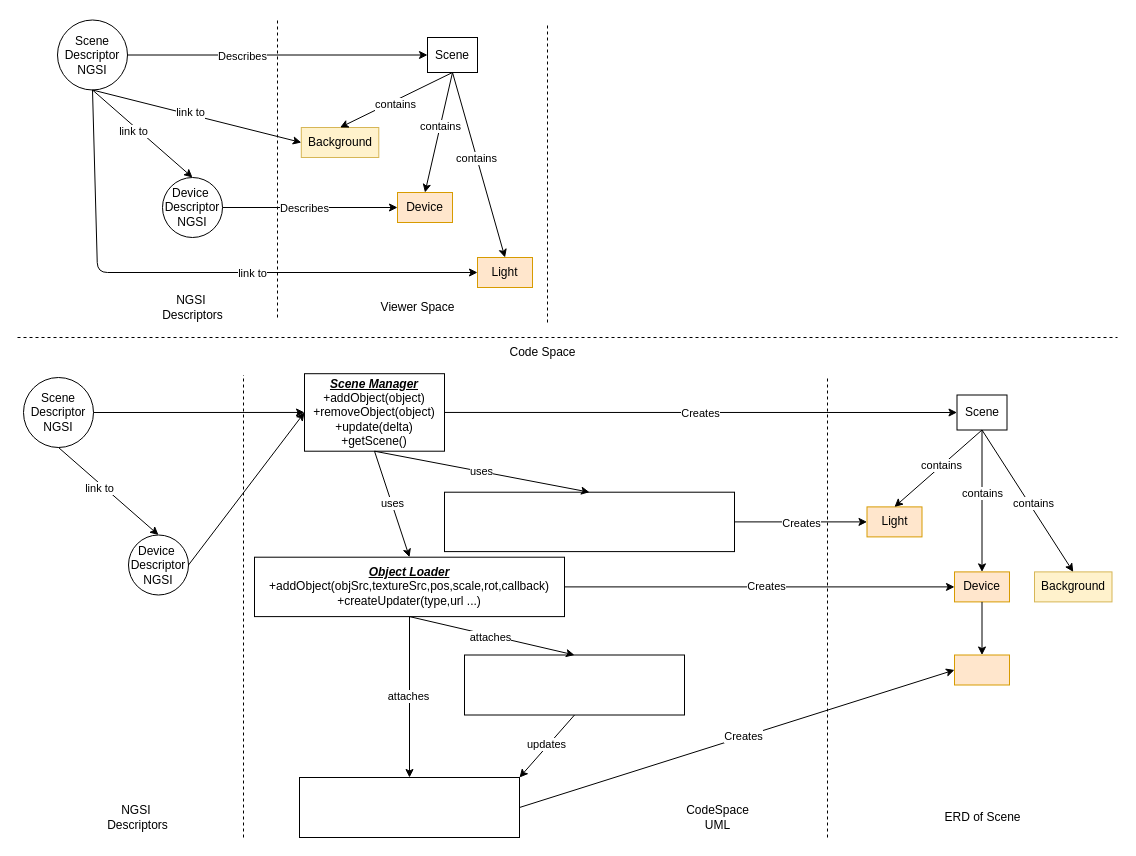
This 1136x856 diagram has some shape labels left out. Here are the shapes that lost their labels. From the top down, the centre of each, then its label:
point 589,521: Light Manager +addObject(objSrc,textureSrc,pos,scale,rot,callback)
point 574,684: DataUpdateManager +subscribe(topic,object) +fetch(url,params)
point 982,669: Label
point 409,807: DynamicTextSign +updateText(newText) +updatePosition()
